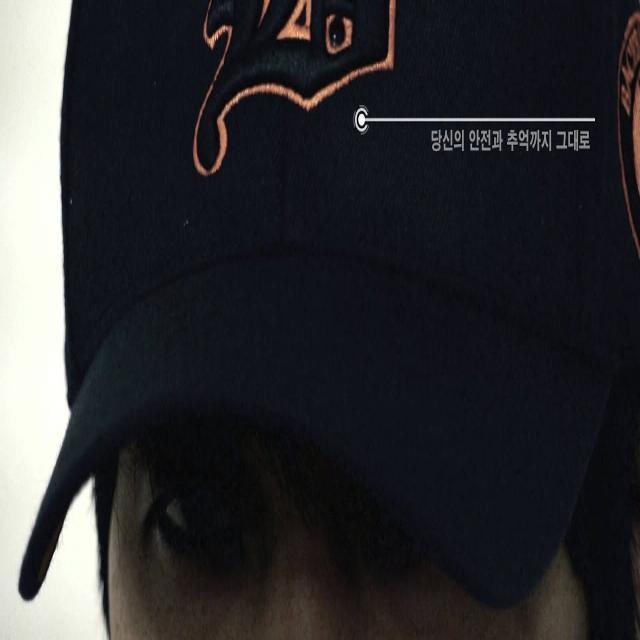hidden camera: (326, 11, 348, 46)
